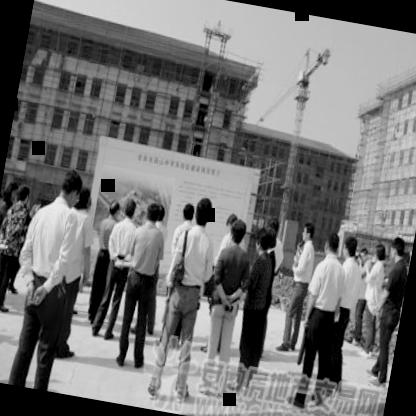head: (54, 168, 86, 212), (191, 192, 216, 230), (386, 234, 408, 266), (228, 215, 250, 247), (320, 228, 342, 260), (177, 200, 197, 230), (298, 216, 318, 245), (0, 176, 19, 206), (339, 235, 359, 262), (252, 224, 270, 254), (369, 239, 389, 265), (143, 200, 161, 226), (264, 223, 280, 252), (77, 183, 93, 212), (15, 178, 32, 204), (106, 194, 121, 221), (122, 196, 138, 220), (156, 199, 169, 224)
